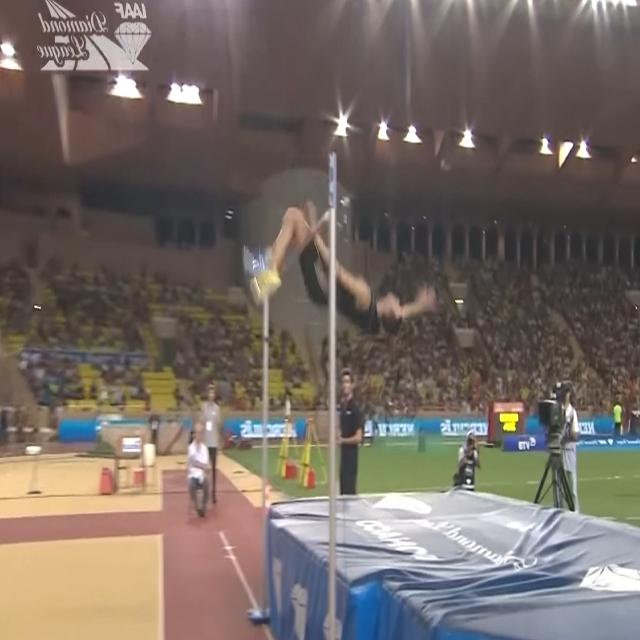jump: (237, 204, 439, 336)
